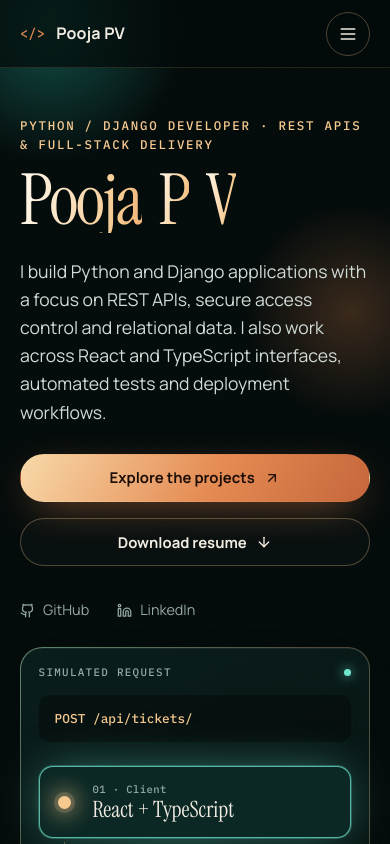
portfolio › exposes the mobile navigation state to assistive technology
The width and height of the screenshot is (390, 844).
Click the button named "open navigation": (348, 34) [326, 12, 370, 56]
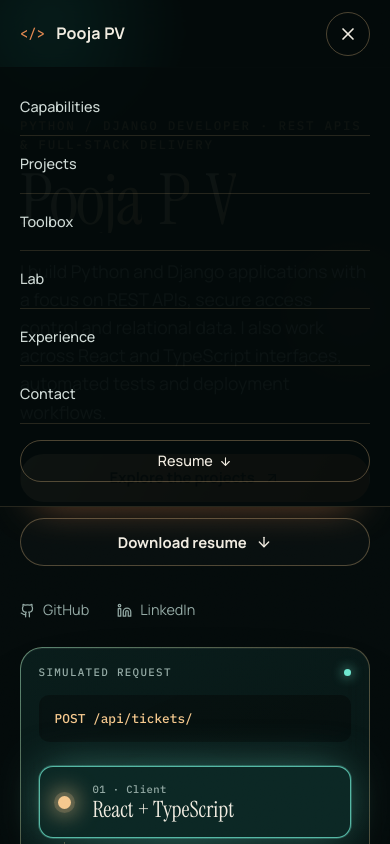
Expected: the button named "open navigation" is expanded, [326, 12, 370, 56]
